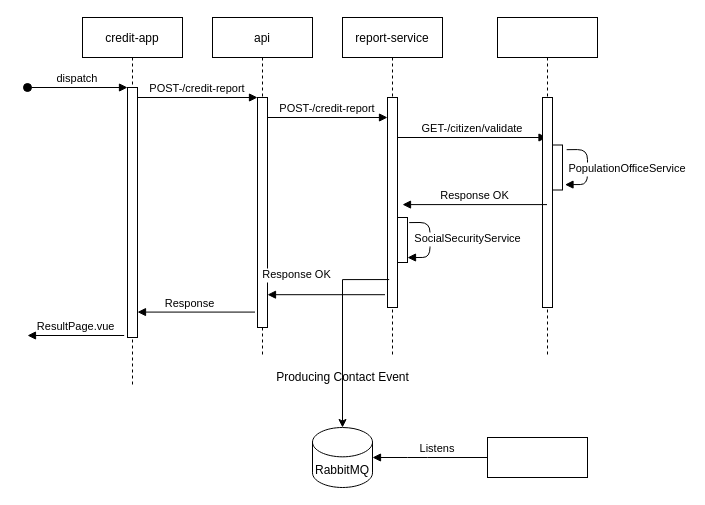
This 705x505 diagram has some shape labels left out. The shapes that lost their labels are listed below. From the top down, each one's box as (x1, y1, x2, y2) in pixels, then its label:
(496, 16, 598, 358): citizen-api
(486, 436, 588, 478): contact-service
